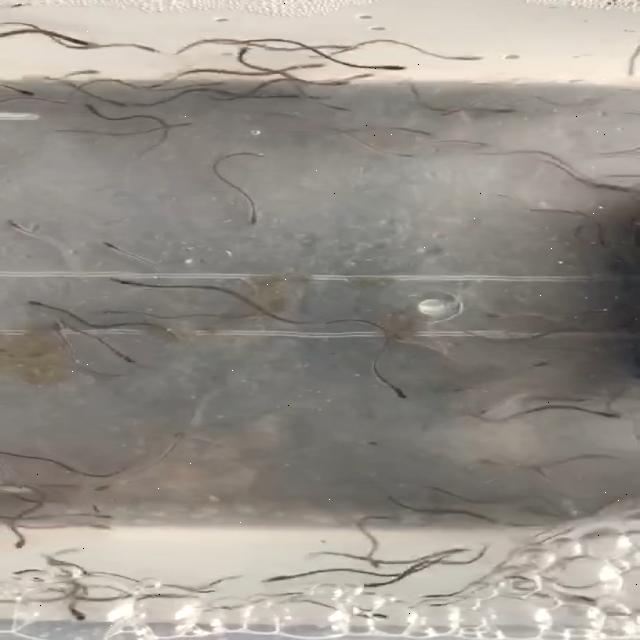active_glass_eel: (249, 567, 307, 587), (55, 61, 106, 80), (1, 80, 48, 100), (442, 100, 484, 122), (470, 48, 524, 65), (60, 598, 96, 623), (62, 34, 104, 54), (80, 102, 122, 122), (292, 58, 337, 76), (484, 102, 520, 122), (4, 528, 34, 552), (0, 219, 34, 239), (376, 382, 416, 399), (352, 606, 394, 622), (397, 122, 444, 136), (102, 273, 142, 289), (468, 308, 512, 322), (77, 520, 121, 534), (386, 148, 424, 164), (46, 321, 76, 341), (89, 480, 122, 498), (195, 75, 232, 91), (358, 552, 395, 568), (344, 72, 388, 85), (98, 240, 132, 256), (470, 404, 500, 422), (19, 300, 57, 314), (526, 357, 564, 371), (360, 62, 408, 73), (81, 511, 118, 525), (590, 406, 624, 421), (243, 206, 266, 228), (115, 352, 147, 367), (96, 305, 129, 319), (141, 44, 169, 60), (360, 438, 390, 452), (326, 104, 364, 115), (233, 47, 260, 61)
